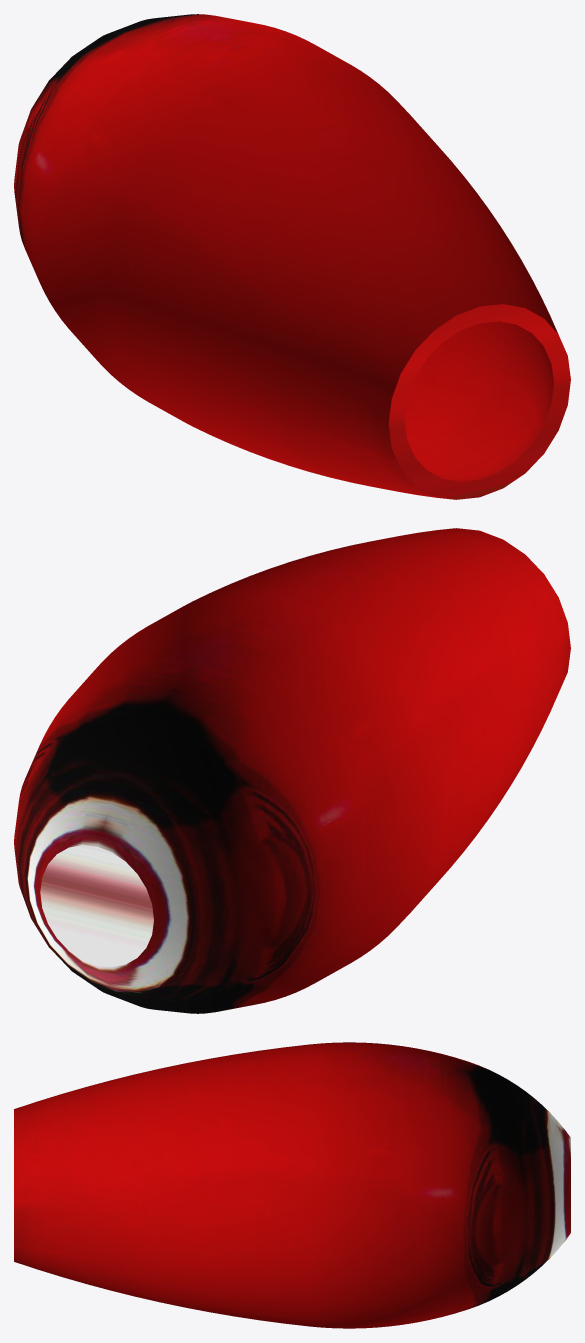
Rendered from model_scale.obj.
3 views of the same model, one above another, from view 1: azimuth 30°, elevation 25°; view 2: azimuth 150°, elevation 25°; view 3: azimuth 270°, elevation 25° (orthographic). The views are drawn at different scales.
Visible parts, largest first — view 1: mesh1_mesh1-geometry; view 2: mesh1_mesh1-geometry; view 3: mesh1_mesh1-geometry.
Part boxes in pixels (x1,y1,x2,y2): mesh1_mesh1-geometry: [14, 14, 570, 499]; mesh1_mesh1-geometry: [14, 528, 570, 1013]; mesh1_mesh1-geometry: [14, 1042, 570, 1328].
Bounding box in the file's own units: 0.1077 × 0.1077 × 0.2088.
Materials: 1 (1 with a texture image).
